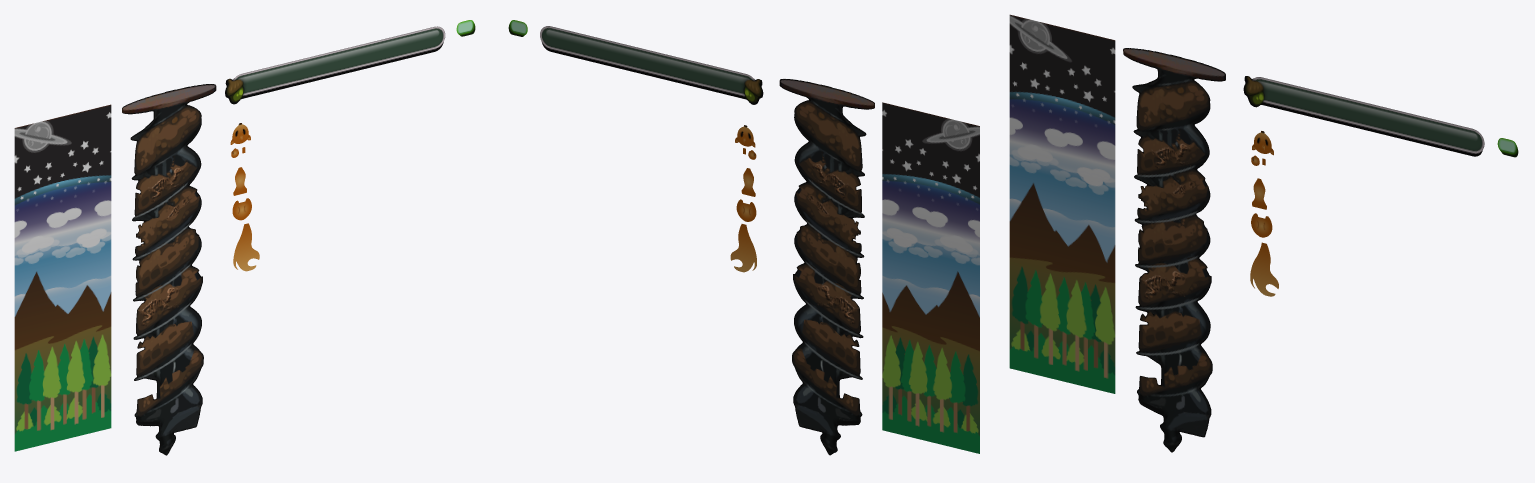
Rendered from CustomPlaneSet1.FBX.
3 views of the same model, side by side, from view 1: azimuth 30°, elevation 25°; view 2: azimuth 150°, elevation 25°; view 3: azimuth 330°, elevation 25° (orthographic). The views are drawn at different scales.
Parts seen in each view (by area): view 1: MeterBackground, ShitScrew, StaminaMeter, SquirrelTail; view 2: MeterBackground, ShitScrew, StaminaMeter, SquirrelTail; view 3: MeterBackground, ShitScrew, StaminaMeter, SquirrelTail.
Part boxes in pixels (x1,y1,x2,y2): MeterBackground: (14,104,111,451); ShitScrew: (122,84,216,455); StaminaMeter: (225,26,445,104); SquirrelTail: (233,223,259,271); MeterBackground: (882,102,979,453); ShitScrew: (779,79,874,455); StaminaMeter: (540,26,763,104); SquirrelTail: (730,224,756,272); MeterBackground: (1009,14,1115,393); ShitScrew: (1123,48,1225,452); StaminaMeter: (1243,76,1484,156); SquirrelTail: (1250,242,1278,296).
Size of the model in its own units: 1156 by 877 by 19.83.
